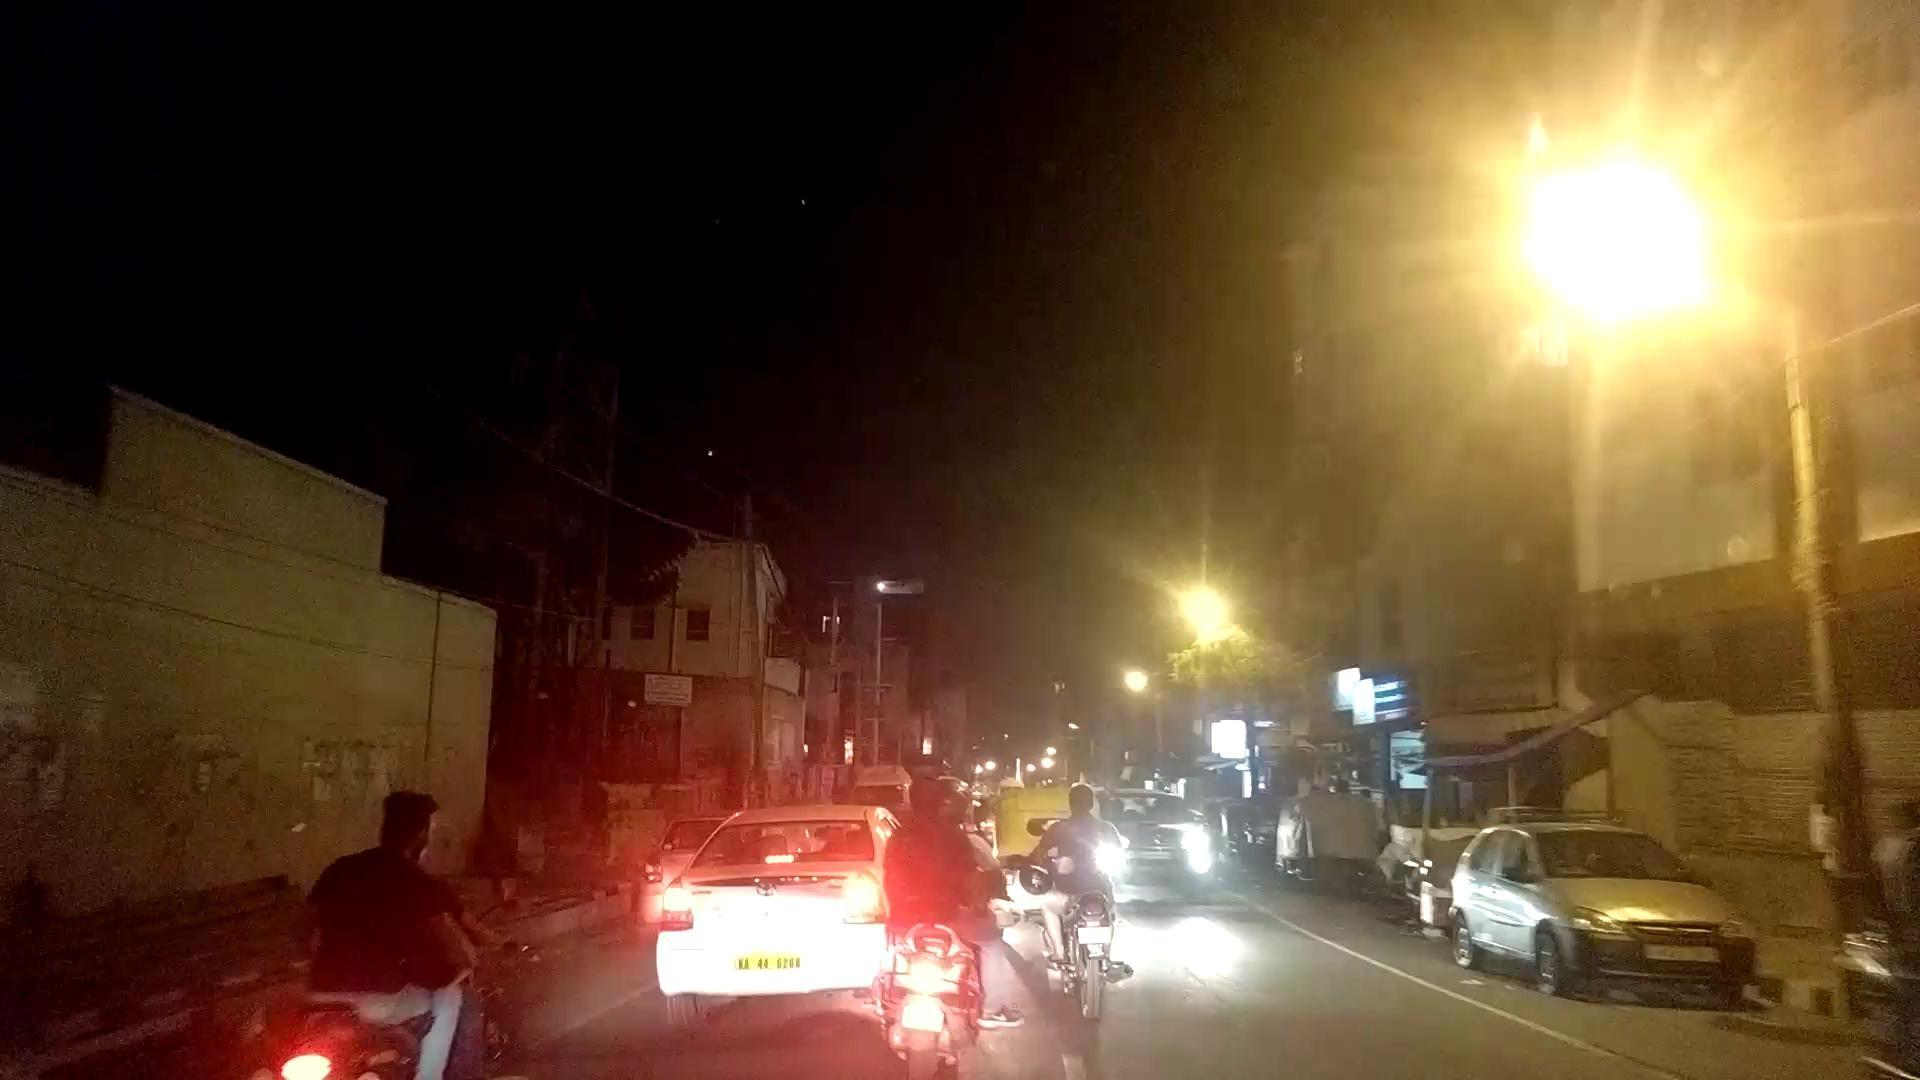on: (1410, 42, 1791, 459), (1120, 433, 1327, 738)
